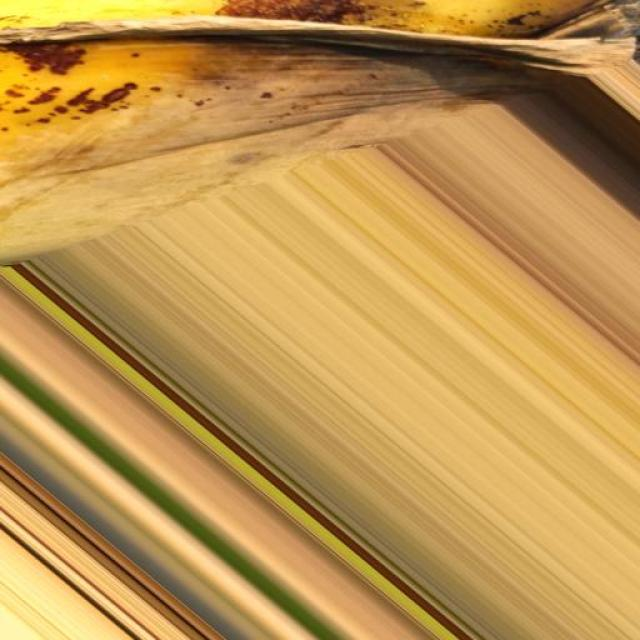Anthracnose: (2, 0, 640, 278)
